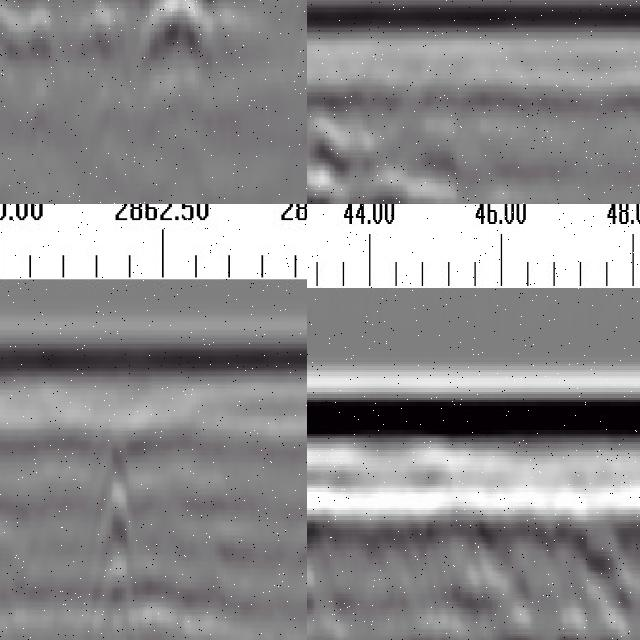crack: (85, 404, 138, 640)
loose: (308, 543, 636, 640), (308, 84, 499, 205), (1, 1, 232, 73)
